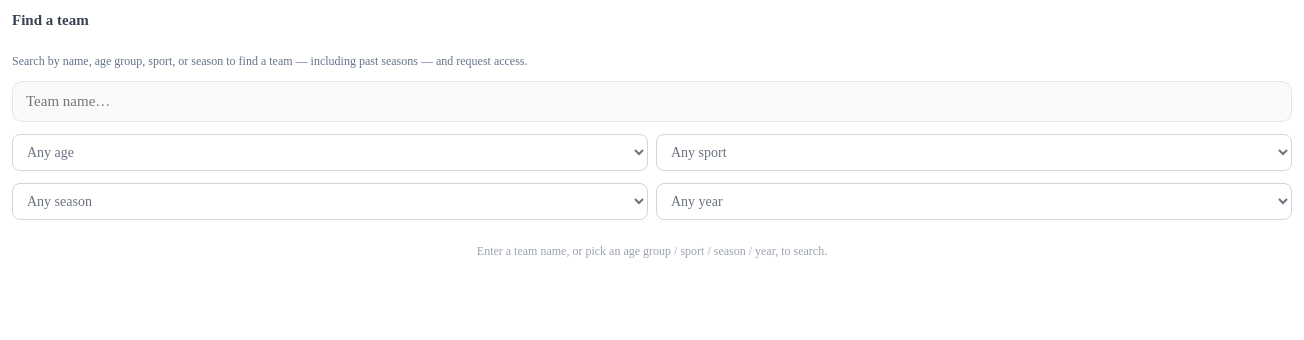
it: TeamSearch — error and retry › a non-ok response is treated as an error, not parsed as results
Type "xx" into the search field labelled "Team name…". click: (652, 101)
box: top-left (12, 81), bottom-right (1292, 122)
Wait 400 ms
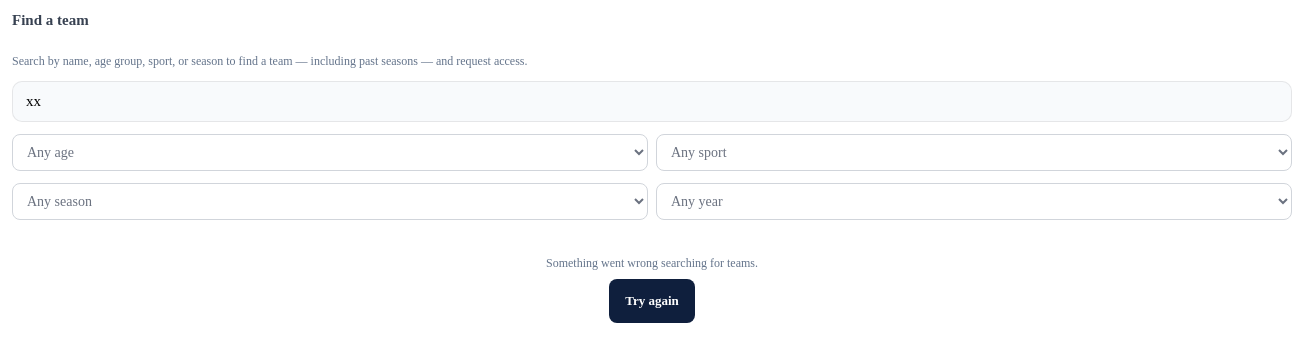
Expected: the text "Something went wrong searching for teams." is shown, top-left (546, 256), bottom-right (758, 271)
